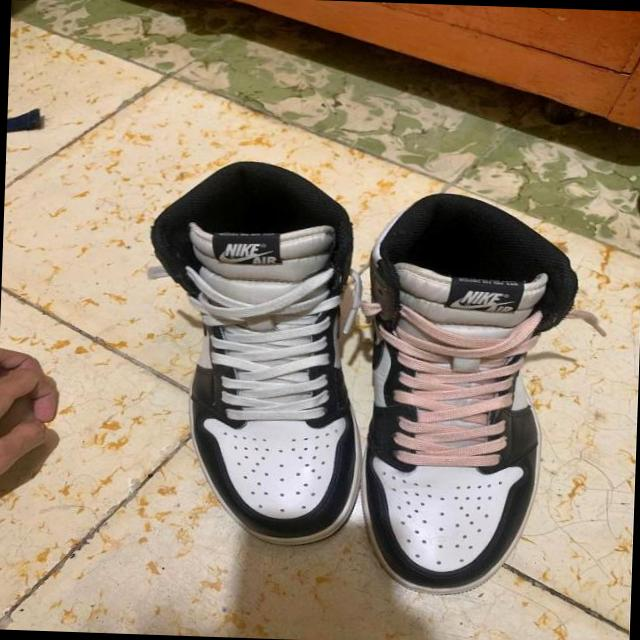nike_original_jordan: (354, 188, 584, 600), (140, 158, 374, 548)
